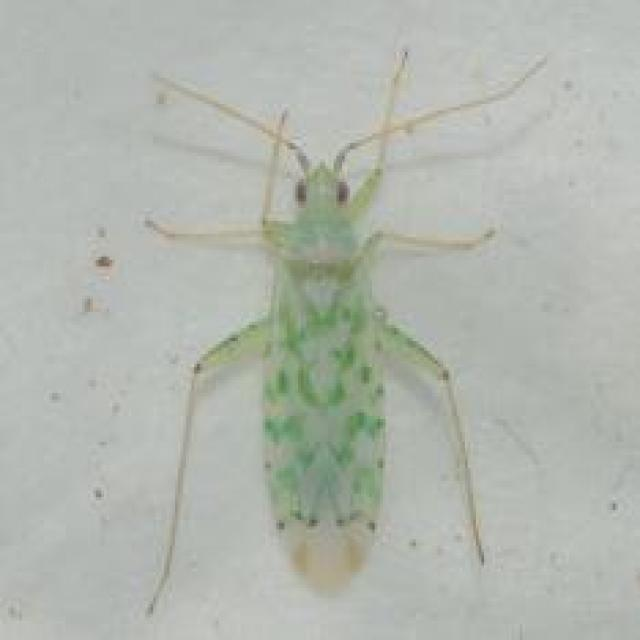Miridae-Adult-: (133, 53, 539, 614)
